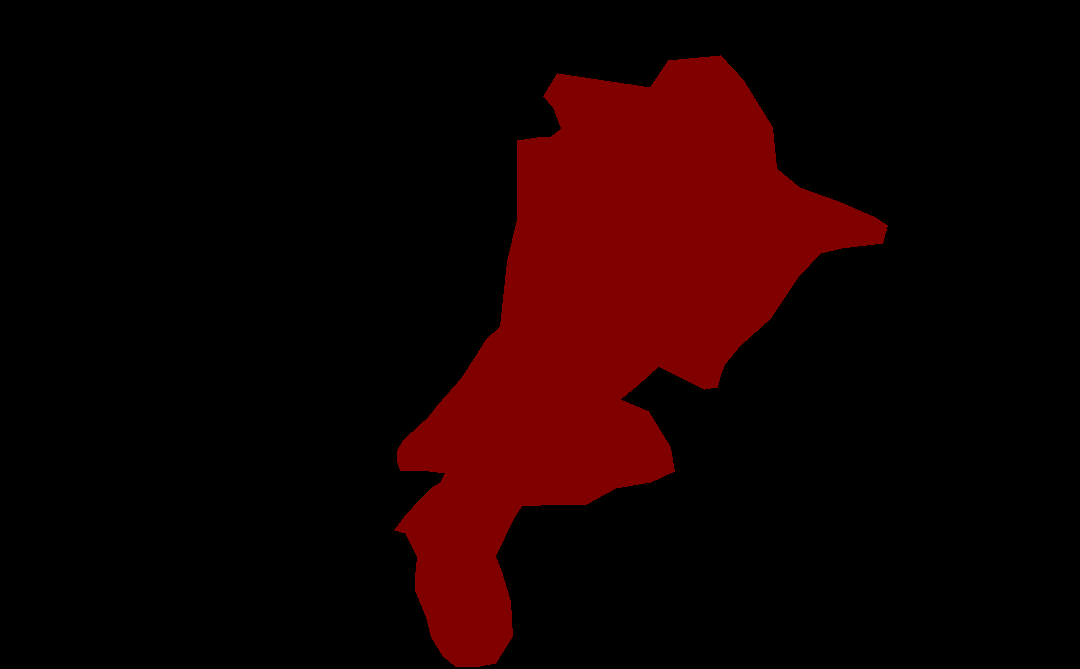fire: (394, 55, 887, 666)
